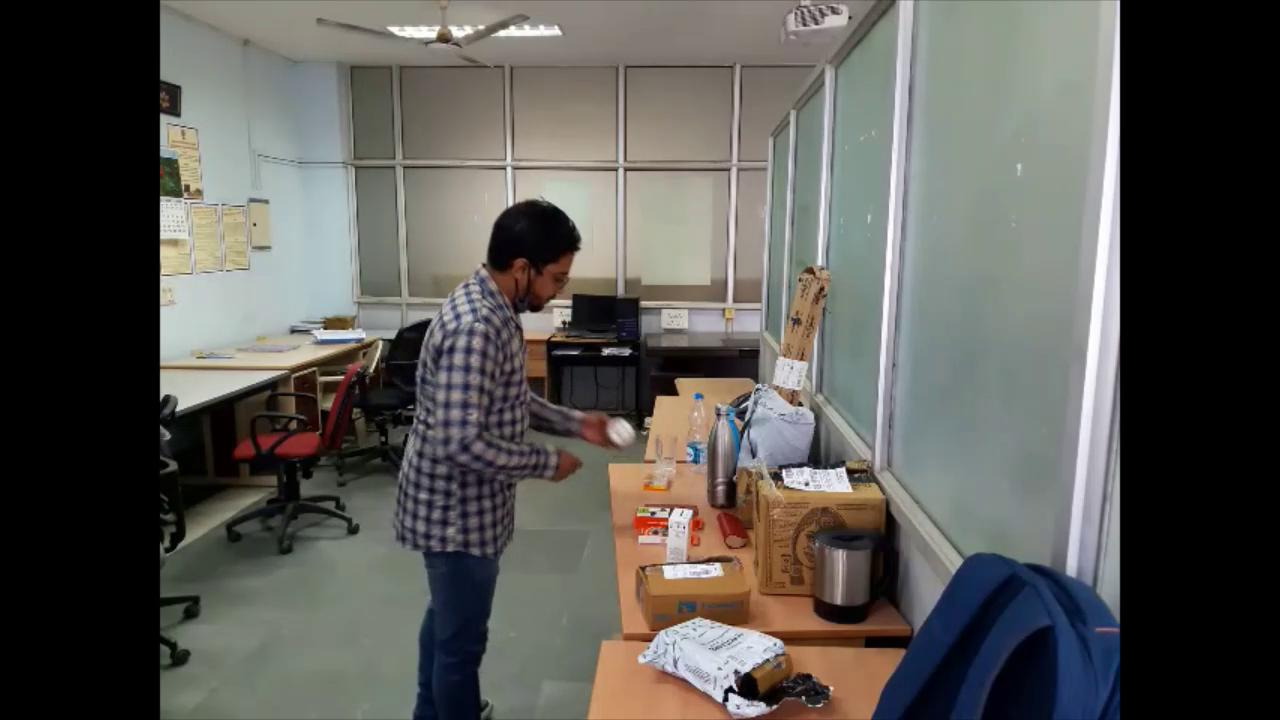Normal: (381, 194, 645, 720)
